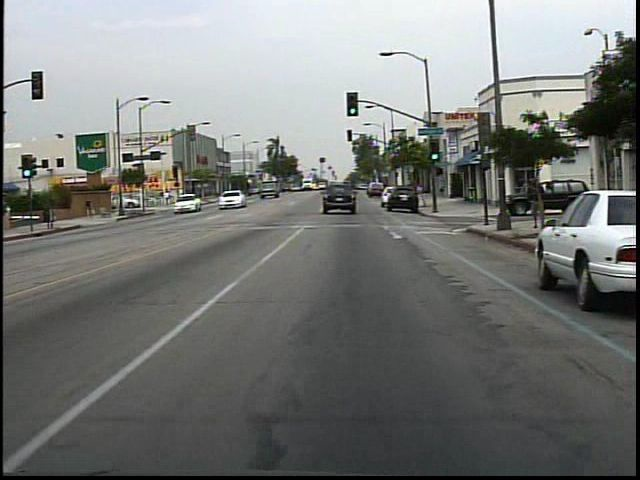person: (524, 172, 548, 226), (84, 192, 104, 220), (163, 187, 172, 208)
